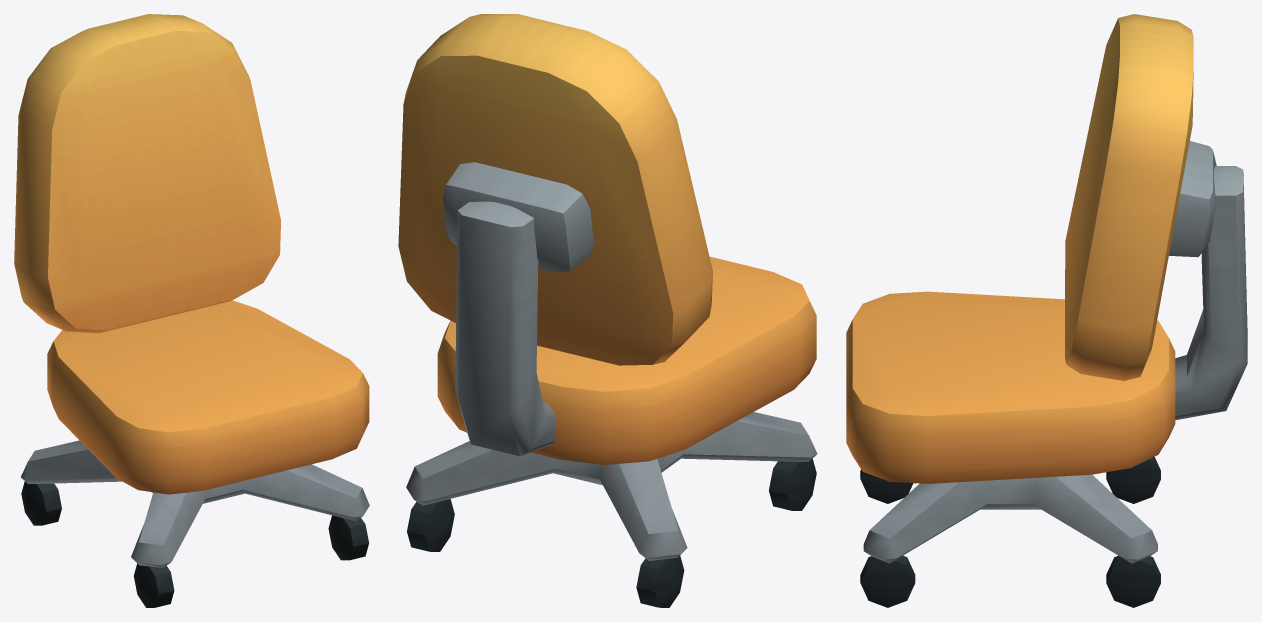
The model's file is chair-desk-a.glb.
3 renders of one model, left to right at view 1: azimuth 30°, elevation 25°; view 2: azimuth 150°, elevation 25°; view 3: azimuth 270°, elevation 25°, orthographic. The views are drawn at different scales.
Parts seen in each view (by area): view 1: chair_desk_A; view 2: chair_desk_A; view 3: chair_desk_A.
Part boxes in pixels (box(x1,y1,x2,y2)): chair_desk_A: box(14, 14, 369, 607); chair_desk_A: box(398, 14, 817, 607); chair_desk_A: box(846, 14, 1247, 607).
Bounding box in the file's own units: 0.7004 × 1.29 × 0.915.
1 material, 1 textured.
